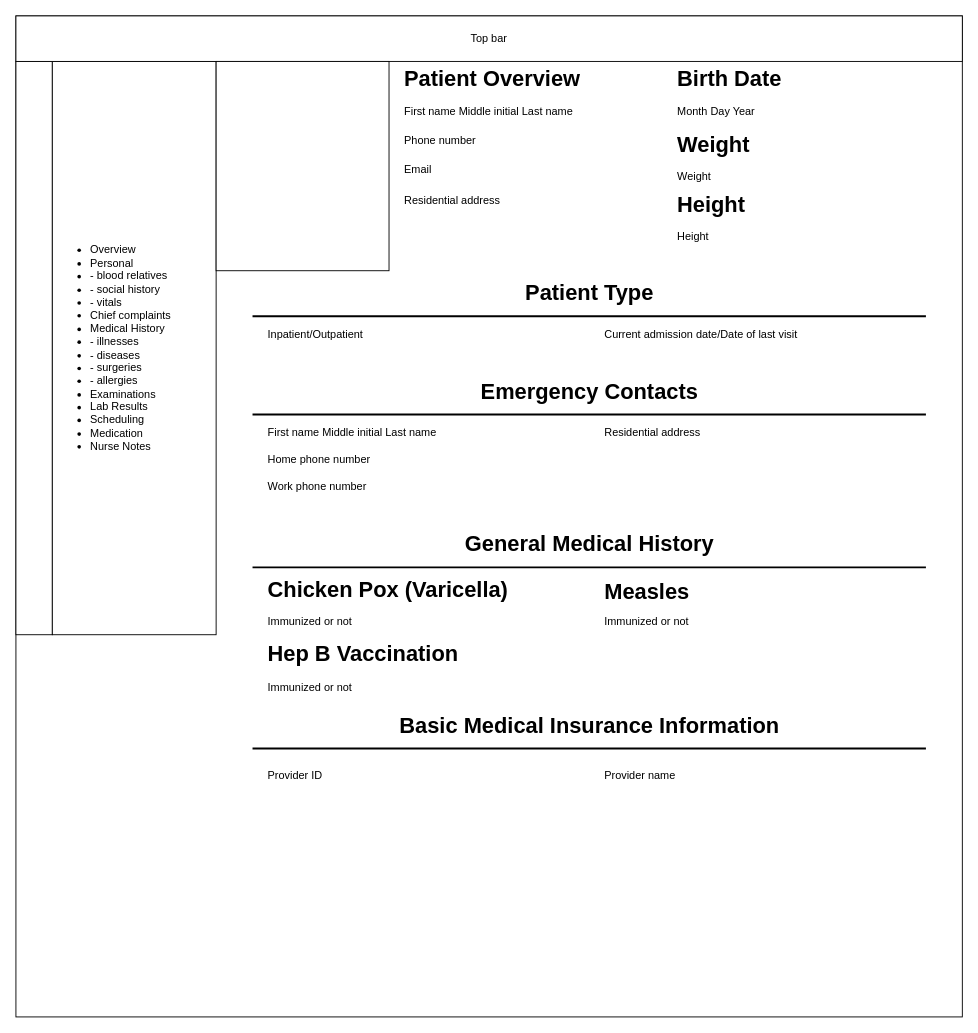
Some shapes in this 978 by 1033 pixel diagram are drawn without their labels. The shapes that lost their labels are listed below. From the top down, each one's box as (x1, y1, x2, y2) in pixels, then its label:
(215, 61, 389, 271): Patient Picture
(15, 61, 52, 635): side bar main menu
